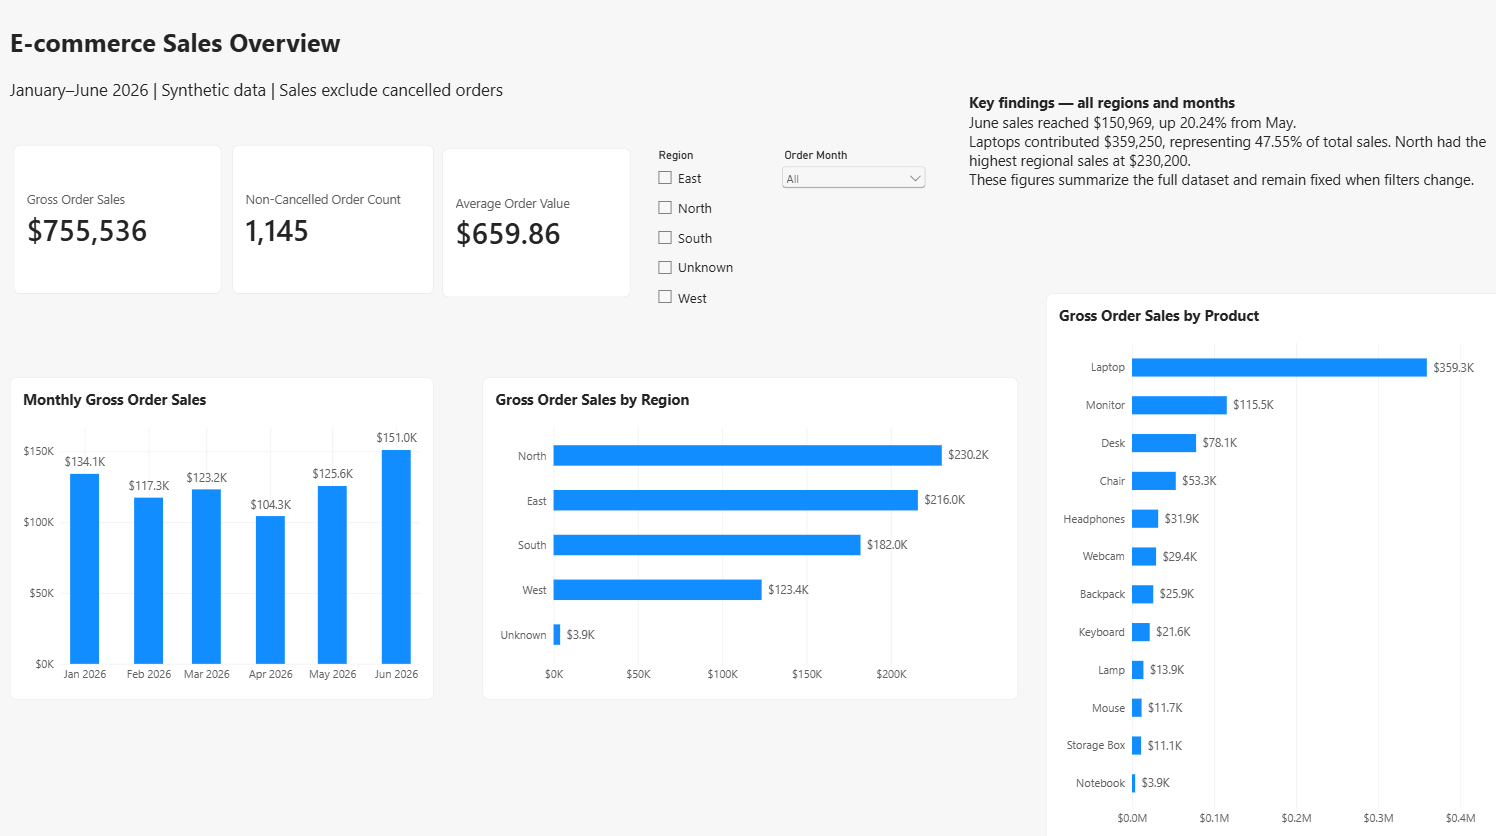

The page's visual inventory and layout, read from the dashboard file:
{"tool":"powerbi","page":{"name":"Sales Overview","canvas":[1920,1080],"ordinal":1},"visuals":[{"type":"cardVisual","fields":{"Data":["OrderItems.Gross Order Sales"]},"box":[22.5,190,265,190],"z":0},{"type":"cardVisual","fields":{"Data":["Orders.Non-Cancelled Order Count"]},"box":[300,190,257.5,190],"z":1000},{"type":"cardVisual","fields":{"Data":["Orders.Average Order Value"]},"box":[567.5,195,240,190],"z":2000},{"type":"clusteredColumnChart","title":"Monthly Gross Order Sales","fields":{"Category":["Orders.Order Month Start"],"Y":["OrderItems.Gross Order Sales"]},"box":[17.5,485,540,410],"z":3000},{"type":"clusteredBarChart","title":"Gross Order Sales by Product","fields":{"Category":["Products.ProductName"],"Y":["OrderItems.Gross Order Sales"]},"box":[1337.5,380,582.5,700],"z":4000},{"type":"clusteredBarChart","title":"Gross Order Sales by Region","fields":{"Category":["Customers.Region_Clean"],"Y":["OrderItems.Gross Order Sales"]},"box":[620,485,682.5,410],"z":5000},{"type":"slicer","fields":{"Values":["Customers.Region_Clean"]},"box":[835,195,127.5,222.5],"z":6000},{"type":"slicer","fields":{"Values":["Orders.Order Month Start"]},"box":[997.5,195,192.5,90],"z":7000},{"type":"textbox","box":[0,0,1032.5,105],"z":8000},{"type":"textbox","box":[0,105,687.5,50],"z":9000},{"type":"textbox","box":[1239.7,104.8,680,180.6],"z":9001}]}

Visuals, with their boxes in screenshot pixels (x1, y1, x2, y2), scaled from the page's 1920x1080 canvas onto the 1496x836 screenshot:
cardVisual - OrderItems.Gross Order Sales: BBox(18, 147, 224, 294)
cardVisual - Orders.Non-Cancelled Order Count: BBox(234, 147, 434, 294)
cardVisual - Orders.Average Order Value: BBox(442, 151, 629, 298)
"Monthly Gross Order Sales" clusteredColumnChart: BBox(14, 375, 434, 693)
"Gross Order Sales by Product" clusteredBarChart: BBox(1042, 294, 1495, 835)
"Gross Order Sales by Region" clusteredBarChart: BBox(483, 375, 1015, 693)
slicer - Customers.Region_Clean: BBox(651, 151, 750, 323)
slicer - Orders.Order Month Start: BBox(777, 151, 927, 221)
textbox: BBox(0, 0, 804, 81)
textbox: BBox(0, 81, 536, 120)
textbox: BBox(966, 81, 1495, 221)
